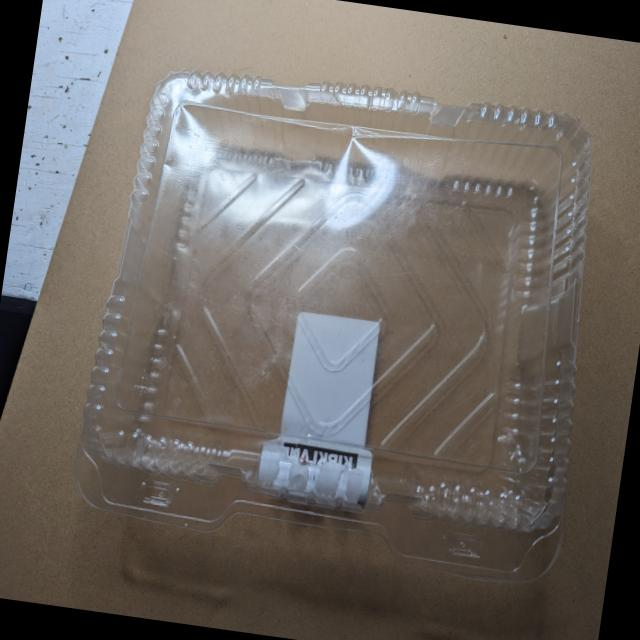Clamshell: (52, 44, 613, 600)
Label: (249, 305, 384, 515)
